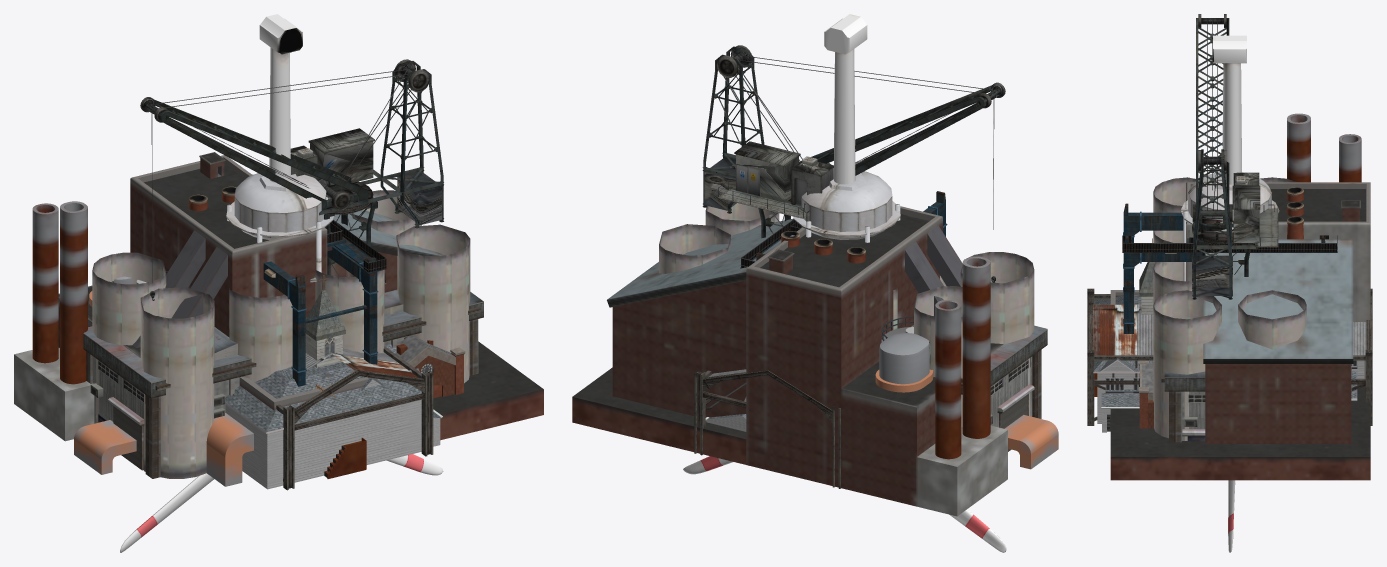
The model's file is country.glb.
The picture shows the model from 3 angles, left to right: view 1: azimuth 30°, elevation 25°; view 2: azimuth 150°, elevation 25°; view 3: azimuth 270°, elevation 25°; orthographic projection. The views are drawn at different scales.
Parts seen in each view (by area): view 1: mineWorks, siteShed, dockCrane, house02, indWarehouse, indGantry, indShedRail, indWatertower, turbineTower, minePlant, church, turbineBlades; view 2: mineWorks, dockCrane, siteShed, indWatertower, indWarehouse, turbineTower, indShedRail, turbineBlades, minePlant, indGantry; view 3: mineWorks, siteShed, dockCrane, indShedRail, indGantry, turbineTower, house02, indWarehouse, minePlant, indWatertower, church, turbineBlades.
Boxes of the visible parts, <box> form: mineWorks: <box>14,152,543,486</box>; siteShed: <box>92,190,470,478</box>; dockCrane: <box>140,59,443,300</box>; house02: <box>225,344,442,489</box>; indWarehouse: <box>83,290,483,478</box>; indGantry: <box>263,220,387,386</box>; indShedRail: <box>276,346,433,490</box>; indWatertower: <box>226,173,333,282</box>; turbineTower: <box>259,14,302,182</box>; minePlant: <box>112,186,465,398</box>; church: <box>305,275,345,367</box>; turbineBlades: <box>120,454,443,552</box>; mineWorks: <box>572,206,1058,516</box>; dockCrane: <box>702,45,1005,282</box>; siteShed: <box>659,203,1034,427</box>; indWatertower: <box>793,171,900,242</box>; indWarehouse: <box>911,325,1047,451</box>; turbineTower: <box>824,14,867,184</box>; indShedRail: <box>694,369,840,488</box>; turbineBlades: <box>683,456,1006,552</box>; minePlant: <box>781,231,929,357</box>; indGantry: <box>740,191,947,268</box>; mineWorks: <box>1094,113,1370,480</box>; siteShed: <box>1153,177,1306,440</box>; dockCrane: <box>1192,14,1278,299</box>; indShedRail: <box>1087,288,1372,425</box>; indGantry: <box>1122,203,1337,333</box>; turbineTower: <box>1213,35,1246,184</box>; house02: <box>1093,295,1364,432</box>; indWarehouse: <box>1161,371,1205,442</box>; minePlant: <box>1139,187,1303,428</box>; indWatertower: <box>1180,172,1279,281</box>; church: <box>1139,238,1154,314</box>; turbineBlades: <box>1228,480,1235,552</box>.
Size of the model in its own units: 39.98 by 47.86 by 27.77.
160 materials, 137 textured.
